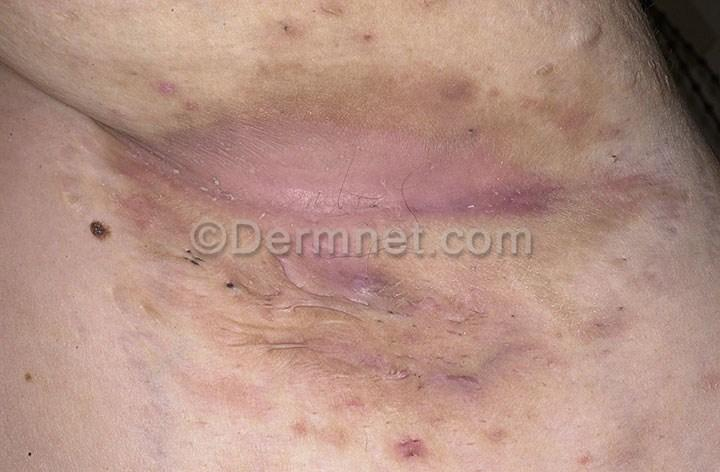Acne: (317, 271, 461, 349), (56, 192, 167, 259), (352, 427, 501, 472), (437, 64, 545, 124), (244, 11, 333, 82)
